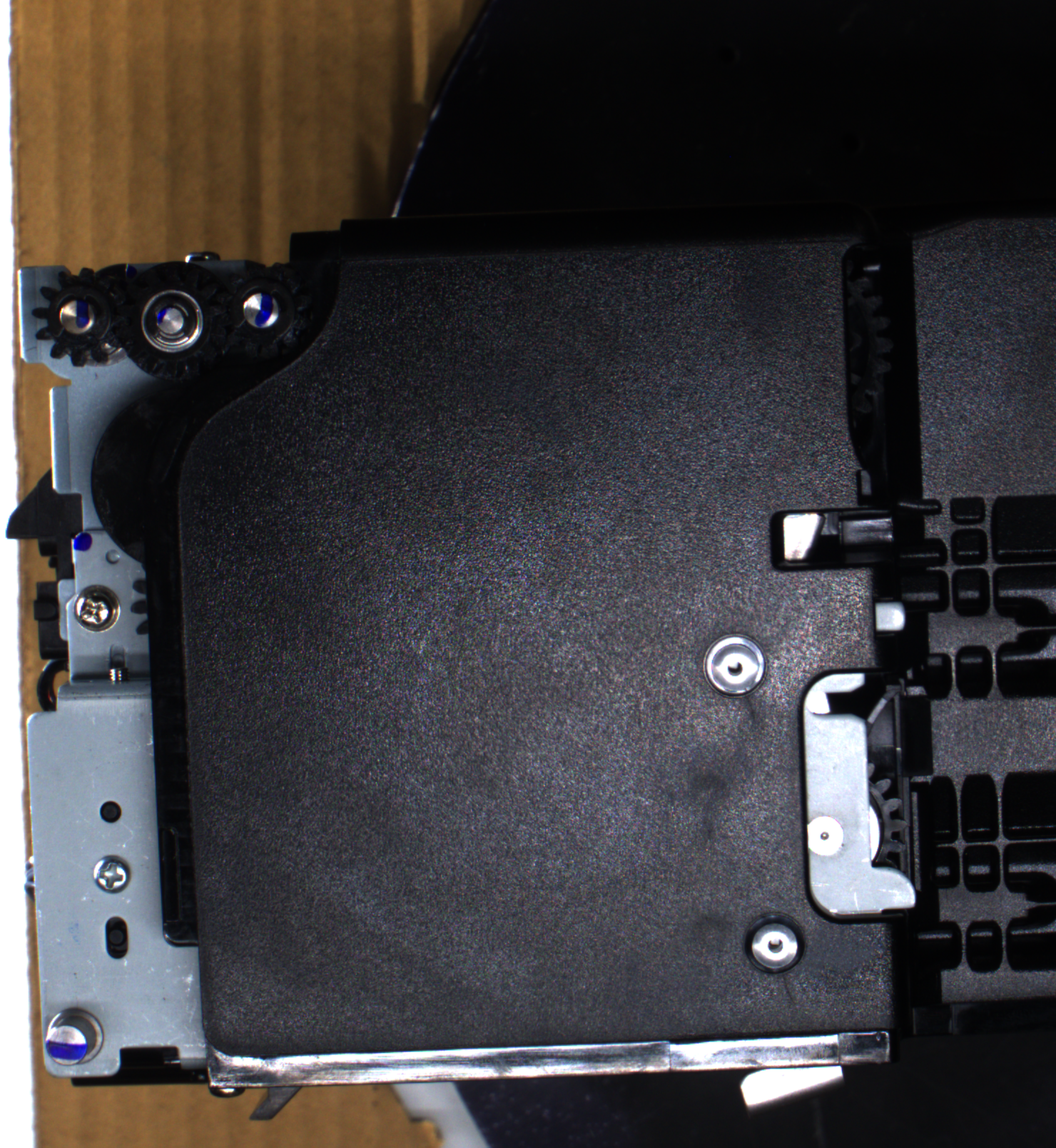centre_pin_presence: (734, 1048, 852, 1113)
centre_plate_presence: (793, 660, 923, 927)
centre_screw_presence: (700, 628, 773, 704), (738, 905, 810, 981)
gear1_presence: (30, 264, 132, 369)
gear2_presence: (116, 261, 231, 382)
gear3_presence: (210, 259, 309, 359)
side_screw_presence: (68, 581, 123, 634), (89, 853, 134, 894)
slanting_pin_presence: (42, 1004, 110, 1074)
